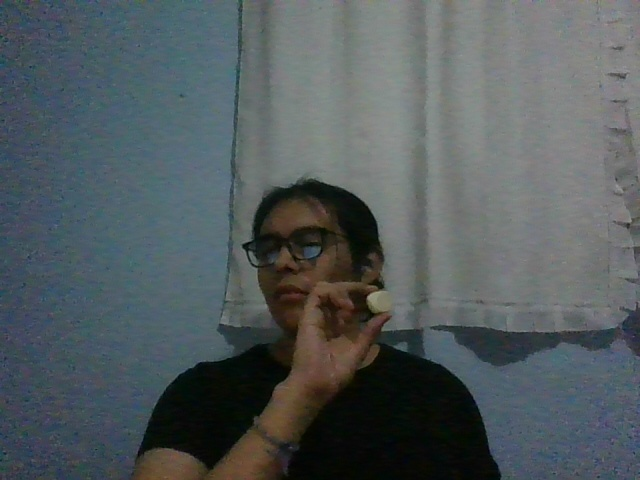goma: (366, 291, 392, 314)
